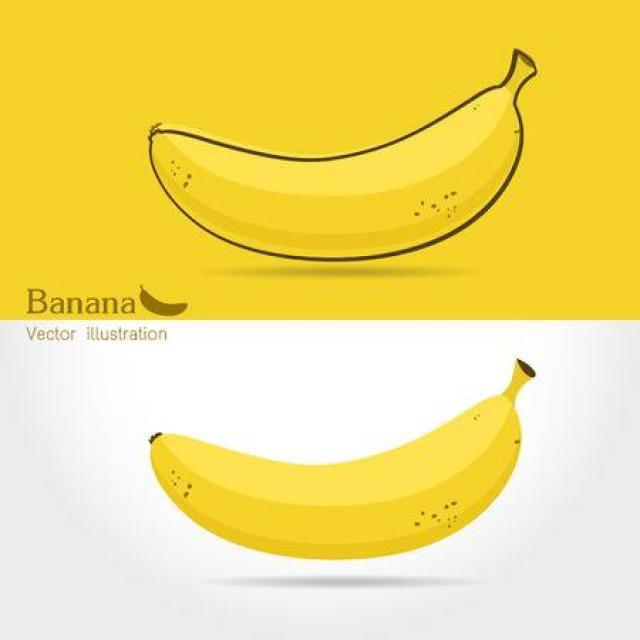banana: (137, 48, 542, 278), (135, 393, 580, 573)
